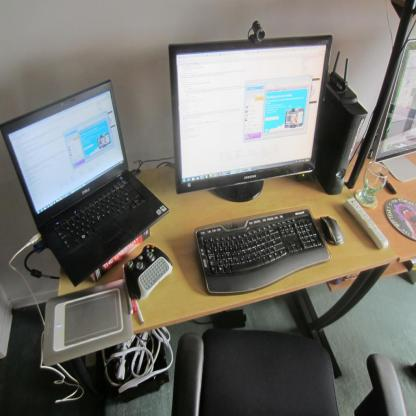board: (0, 77, 168, 286)
